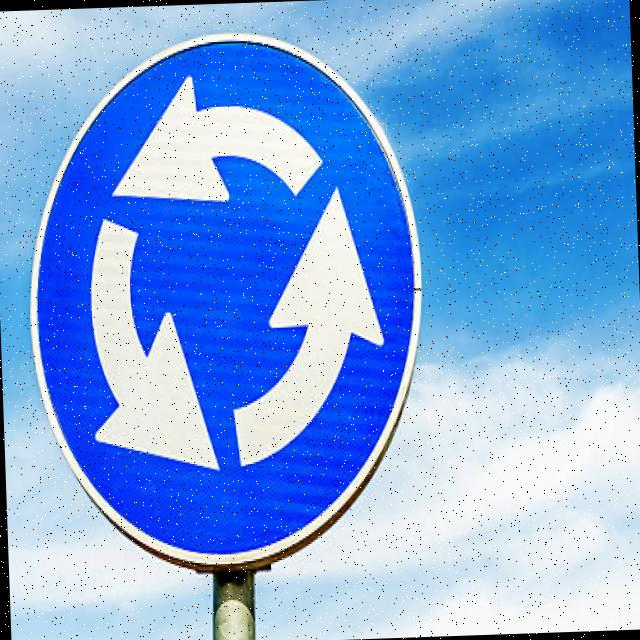round_about: (14, 22, 436, 576)
